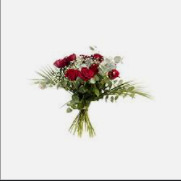RedRose: (79, 67, 98, 81), (64, 69, 81, 84), (66, 49, 78, 65), (52, 57, 65, 69), (93, 51, 104, 63), (108, 70, 121, 80)
